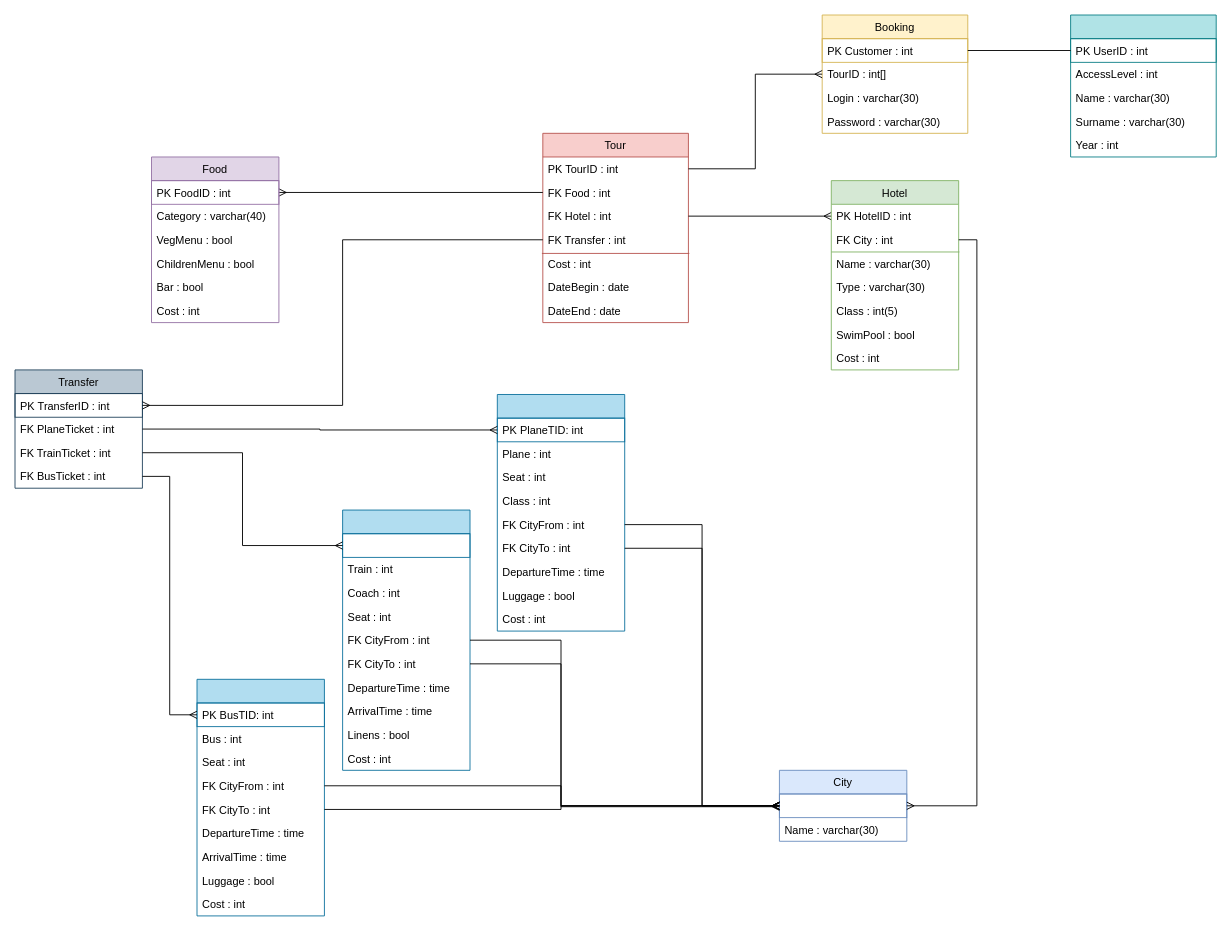
This 1231x931 diagram has some shape labels left out. The shapes that lost their labels are listed below. From the top down, each one's box as (x1, y1, x2, y2) in pixels, then its label:
(1070, 14, 1216, 157): Users
(496, 394, 625, 631): PlaneTicket
(342, 533, 470, 557): PK TrainTID: int
(342, 509, 470, 770): TrainTicket
(196, 678, 324, 916): BusTicket
(779, 793, 907, 818): PK CityID : int
